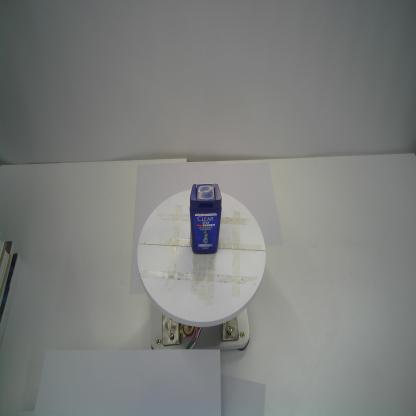Personal Hygiene: (188, 182, 223, 254)
